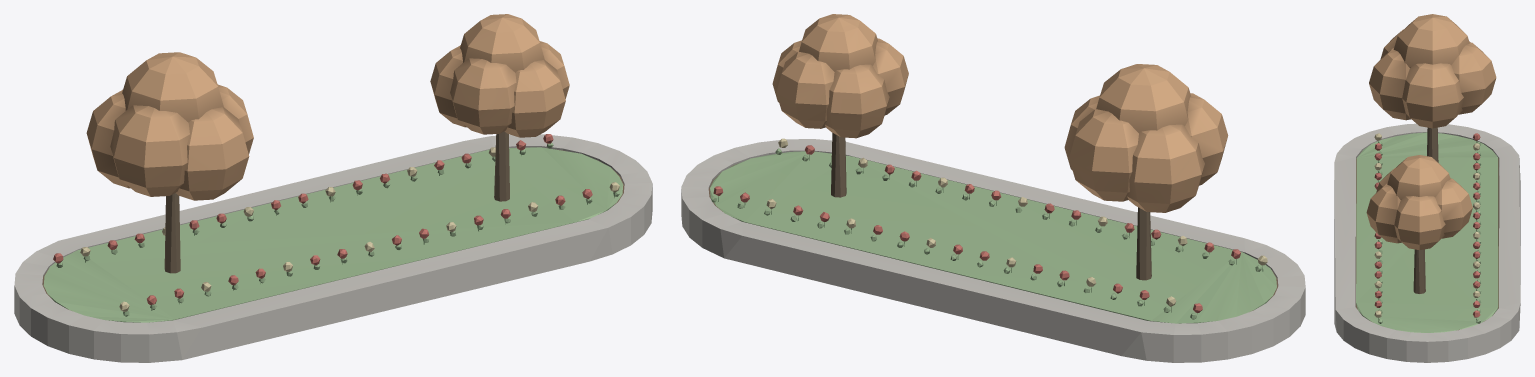
Rendered from plaza_garden_long_autumn_low.glb.
3 views of the same model, side by side, from view 1: azimuth 30°, elevation 25°; view 2: azimuth 150°, elevation 25°; view 3: azimuth 270°, elevation 25° (orthographic). The views are drawn at different scales.
Bounding box in the file's own units: 10 × 3.82 × 3.6.
